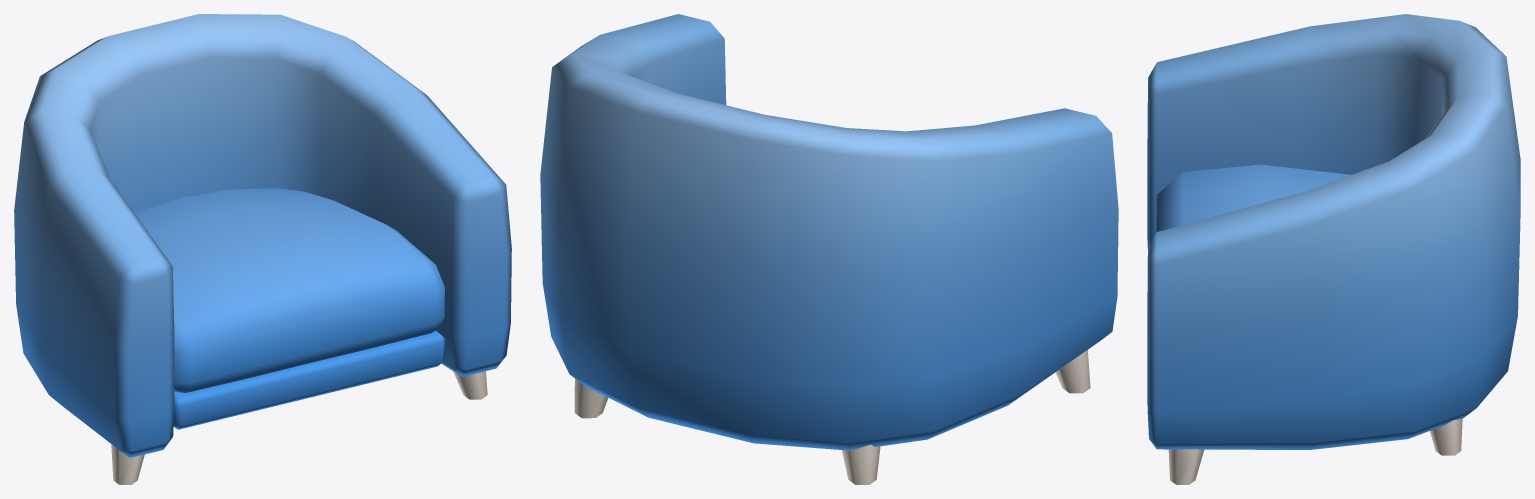
Rendered from Furniture_Sofa_04.fbx.
The picture shows the model from 3 angles, left to right: view 1: azimuth 30°, elevation 25°; view 2: azimuth 150°, elevation 25°; view 3: azimuth 270°, elevation 25°; orthographic projection. The views are drawn at different scales.
Parts seen in each view (by area): view 1: Furniture_Sofa_04; view 2: Furniture_Sofa_04; view 3: Furniture_Sofa_04.
Boxes of the visible parts, box(x1,y1,x2,y2) form: Furniture_Sofa_04: box(14, 14, 511, 484); Furniture_Sofa_04: box(540, 14, 1118, 484); Furniture_Sofa_04: box(1147, 14, 1520, 484).
Bounding box in the file's own units: 175 × 130 × 136.
